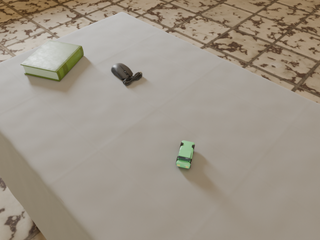book: (21, 40, 84, 81)
mouse: (111, 63, 142, 85)
toy_car: (176, 141, 195, 168)
